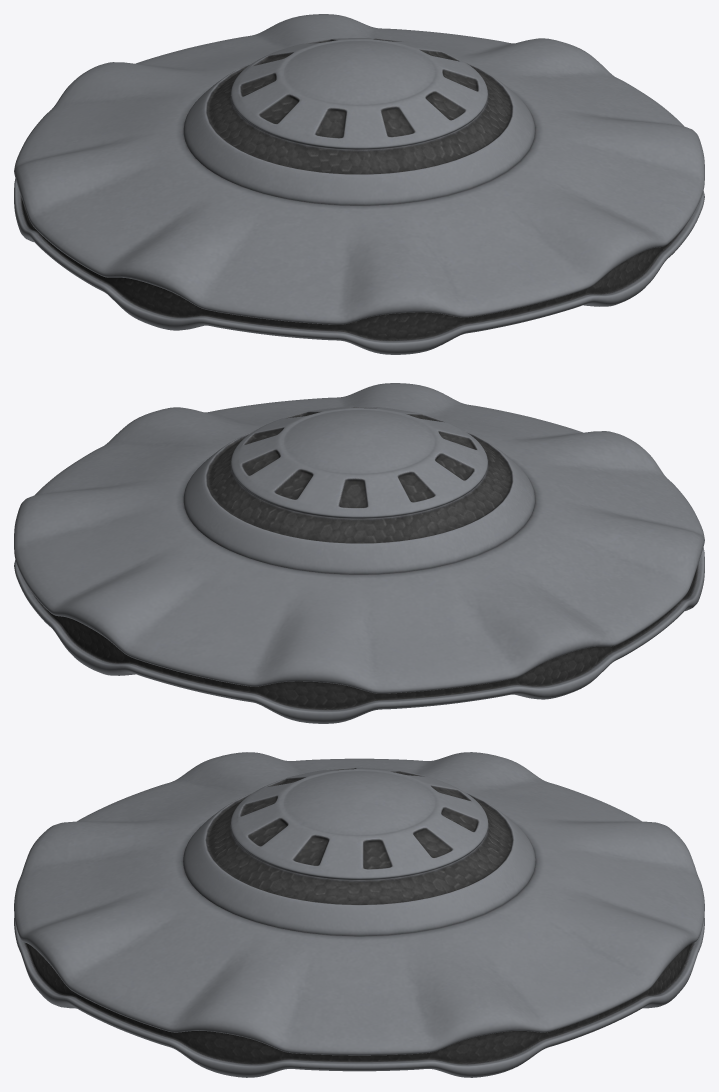
The model's file is ovni.gltf.
3 views of the same model, one above another, from view 1: azimuth 30°, elevation 25°; view 2: azimuth 150°, elevation 25°; view 3: azimuth 270°, elevation 25° (orthographic).
Parts seen in each view (by area): view 1: 13884_UFO_Saucer_v1_l2; view 2: 13884_UFO_Saucer_v1_l2; view 3: 13884_UFO_Saucer_v1_l2.
Boxes of the visible parts, x1,y1,x2,y2 form: 13884_UFO_Saucer_v1_l2: [14, 14, 704, 354]; 13884_UFO_Saucer_v1_l2: [14, 383, 704, 723]; 13884_UFO_Saucer_v1_l2: [14, 752, 704, 1077].
Bounding box in the file's own units: 1047 × 403 × 1047.
1 material, 1 textured.
